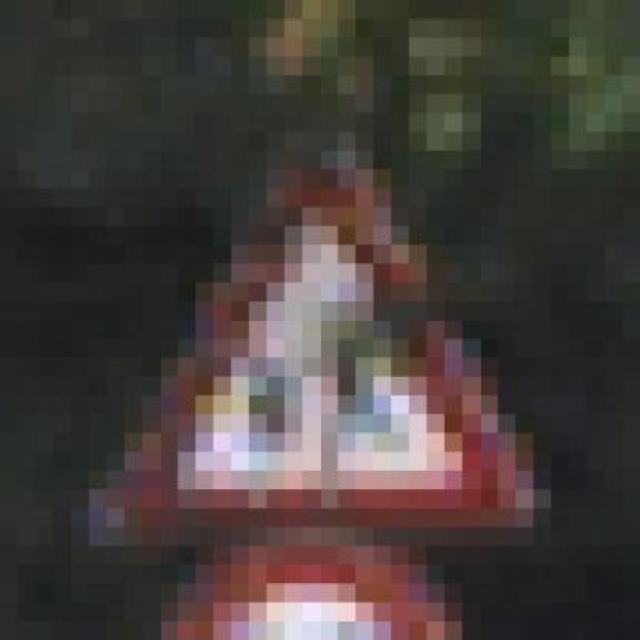Beware of children: (71, 112, 551, 546)
